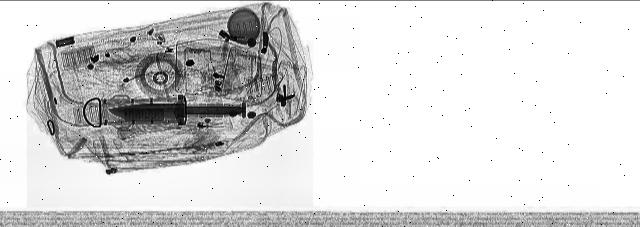Knife: (108, 102, 245, 118)
